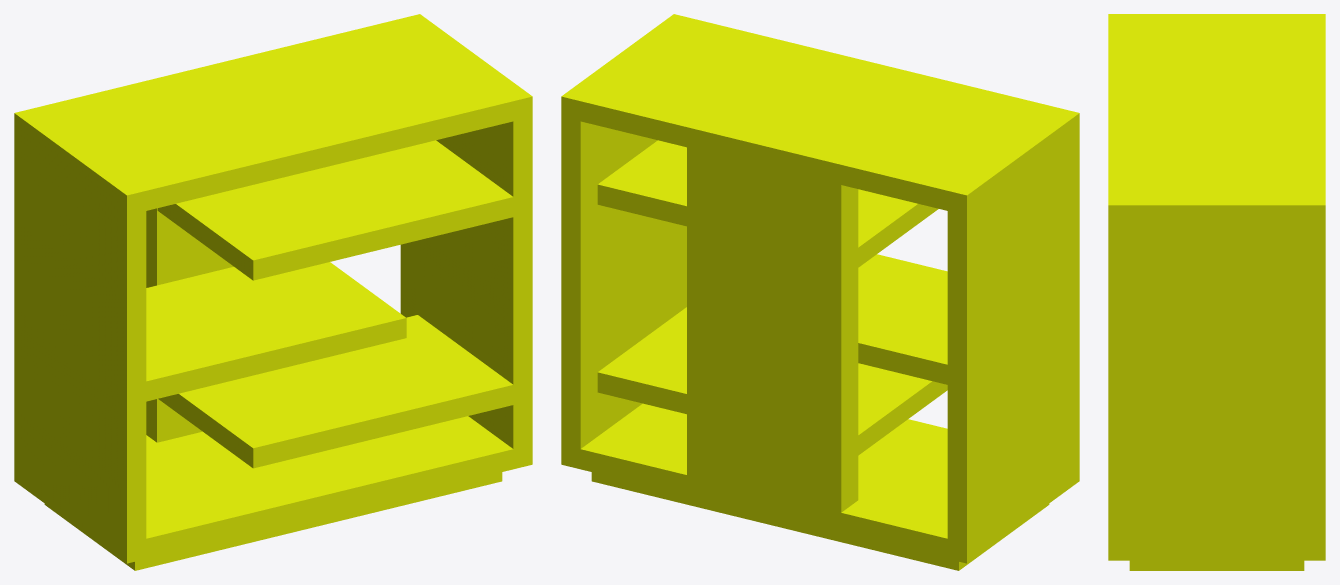
File: Shelf2.FBX
The picture shows the model from 3 angles, left to right: view 1: azimuth 30°, elevation 25°; view 2: azimuth 150°, elevation 25°; view 3: azimuth 270°, elevation 25°; orthographic projection. The views are drawn at different scales.
Visible parts, largest first — view 1: Box030; view 2: Box030; view 3: Box030.
Part boxes in pixels (bbox=[...]): Box030: bbox=[14, 14, 532, 570]; Box030: bbox=[561, 14, 1079, 570]; Box030: bbox=[1108, 14, 1325, 570].
Bounding box in the file's own units: 2.41 × 2.2 × 1.16.
